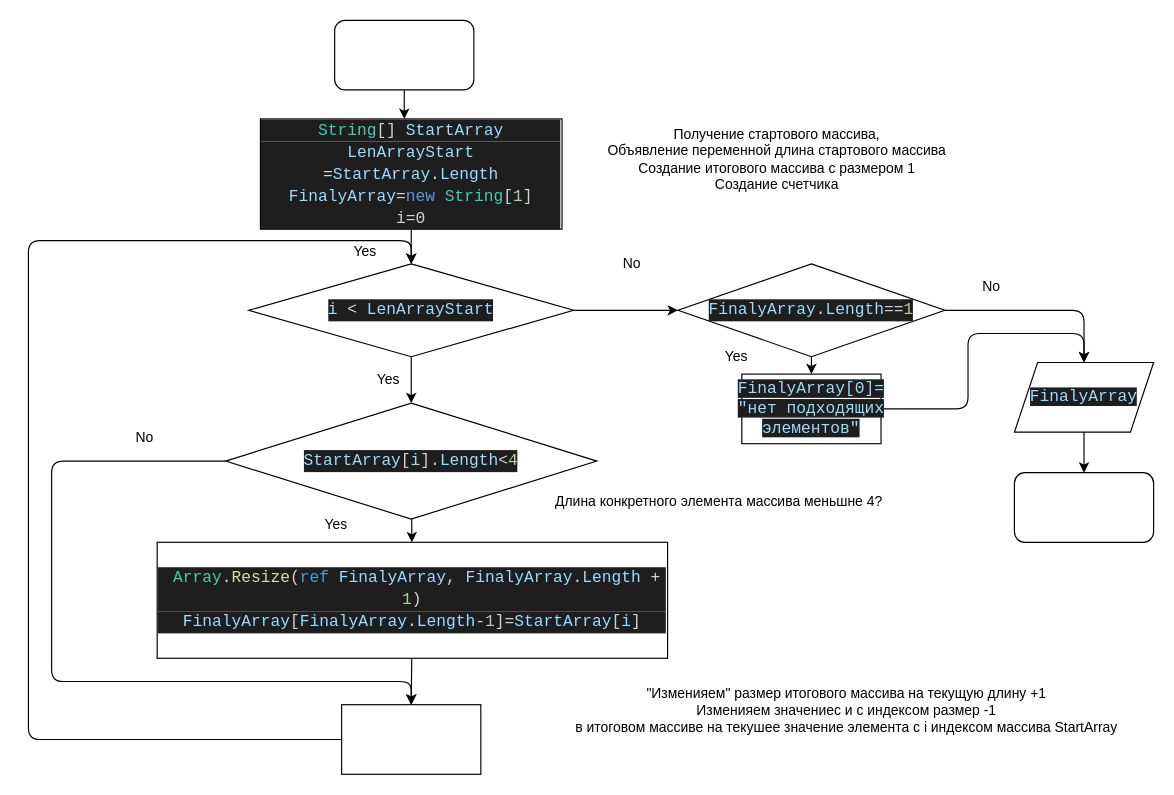
This 1174x795 diagram has some shape labels left out. The box of each missing label's shape, as (x1, y1, x2, y2) in pixels:
i=i+1: (340, 704, 481, 774)
Start: (334, 19, 474, 90)
Stop: (1013, 472, 1154, 542)
